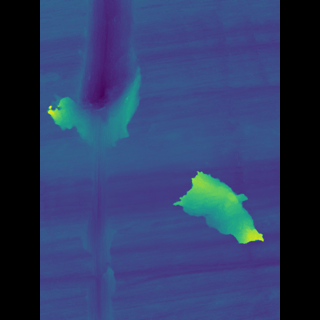Loch: (75, 0, 149, 320), (173, 163, 232, 249)
